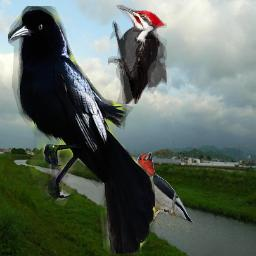Crow: (8, 6, 155, 254)
Woodpecker: (108, 5, 167, 104), (131, 148, 197, 232)
